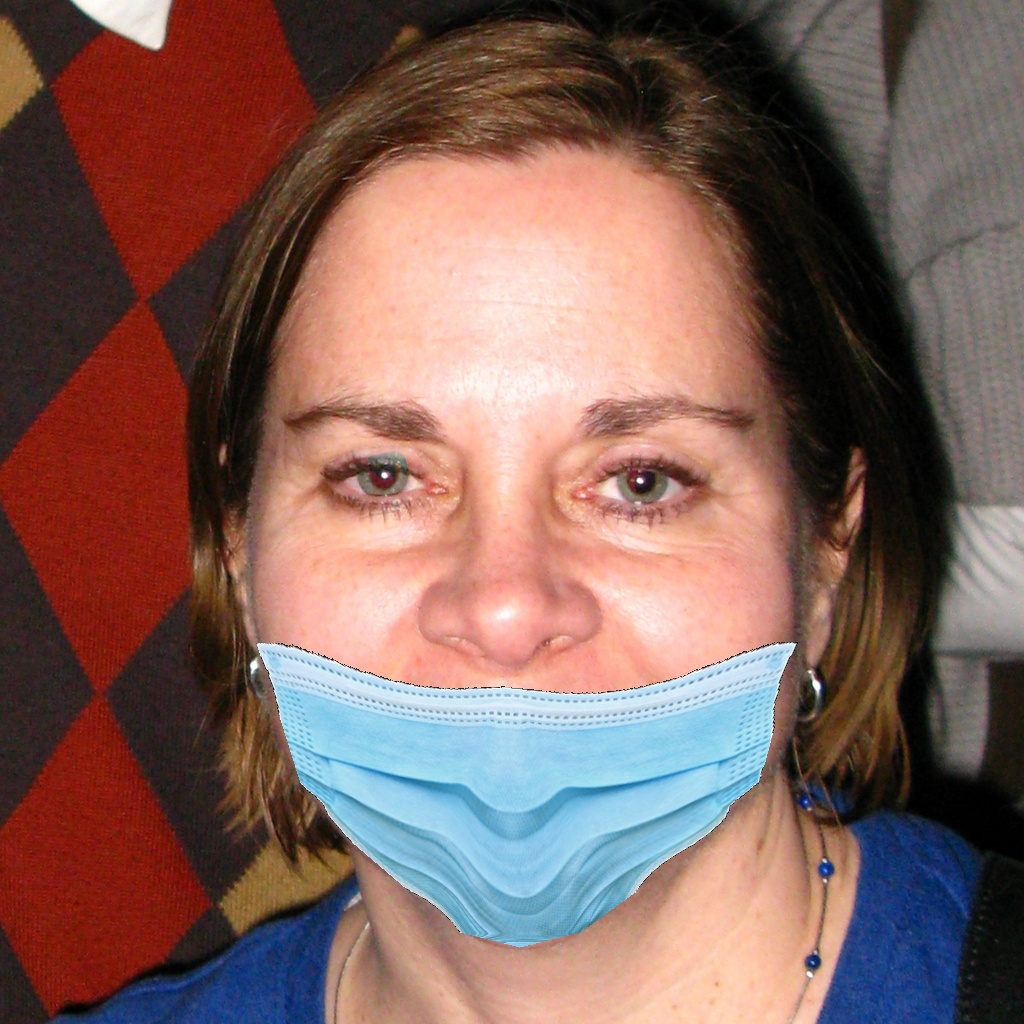mascarilla_mal_puesta: (179, 355, 914, 965)
